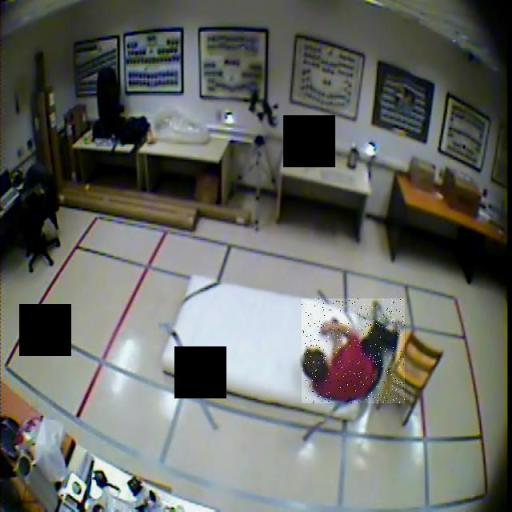Fall: (302, 299, 405, 404)
